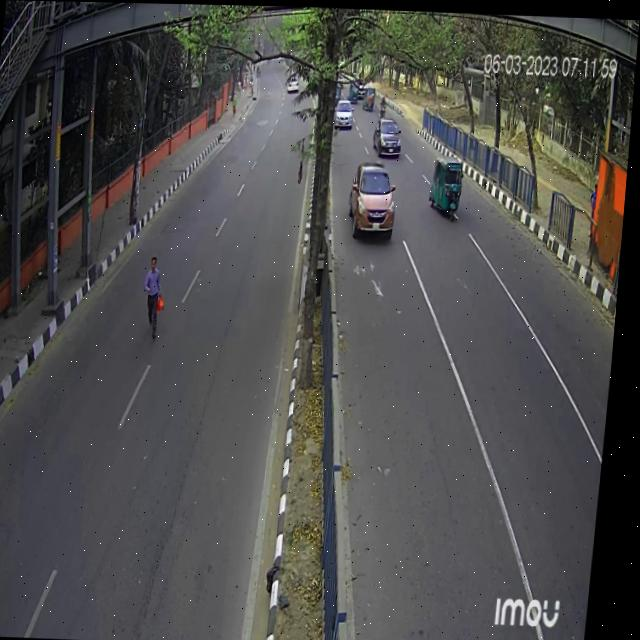cng: (426, 143, 473, 227), (360, 80, 382, 114)
